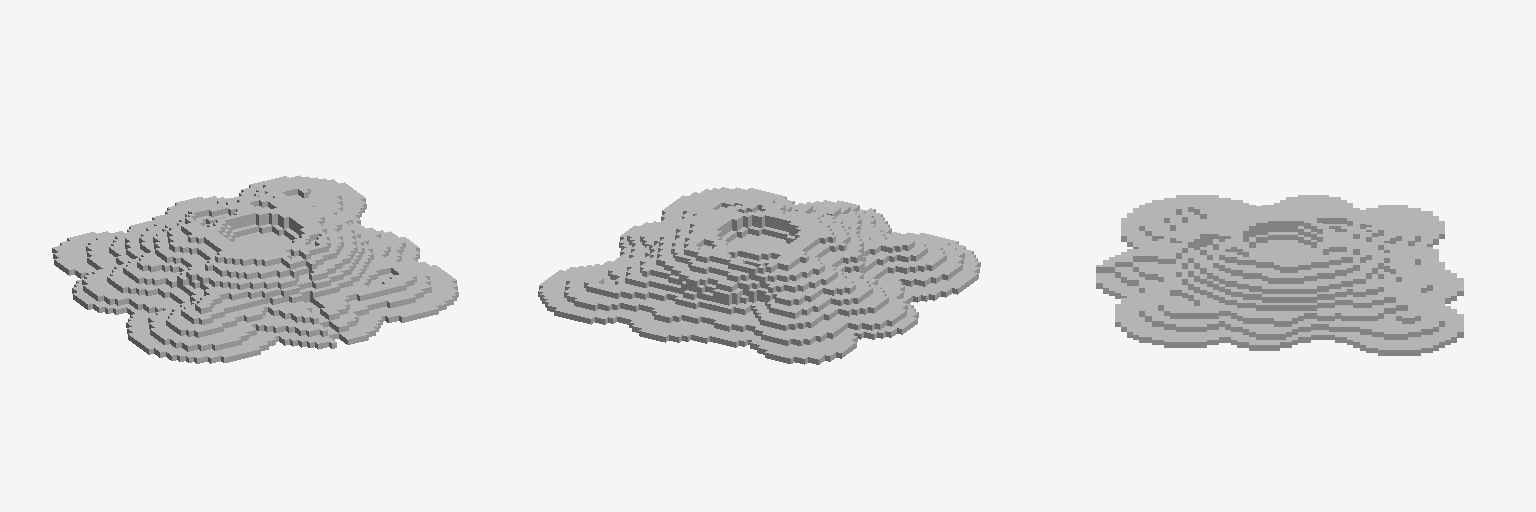
File: Ground plane-2.obj
3 views of the same model, side by side, from view 1: azimuth 30°, elevation 25°; view 2: azimuth 150°, elevation 25°; view 3: azimuth 270°, elevation 25° (orthographic).
Parts seen in each view (by area): view 1: object 1; view 2: object 1; view 3: object 1.
Part boxes in pixels (x1,y1,x2,y2): object 1: (52, 175, 458, 363); object 1: (538, 187, 980, 364); object 1: (1096, 195, 1463, 355).
Bounding box in the file's own units: 6 × 0.8 × 6.